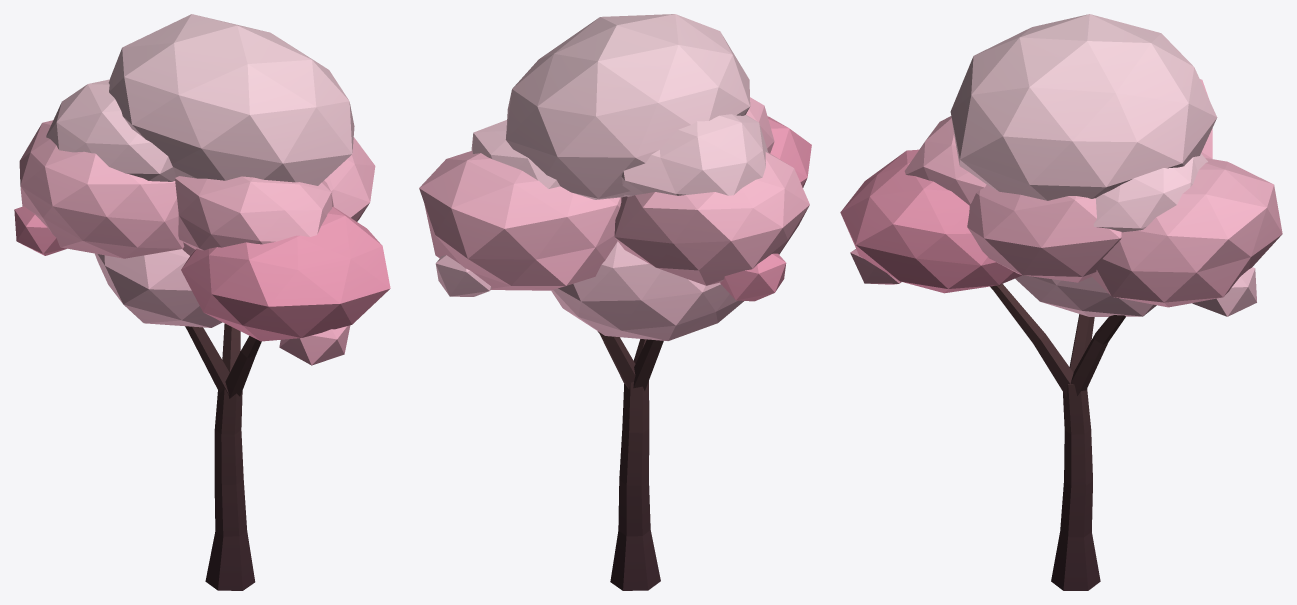
File: sakura_b.glb
3 views of the same model, side by side, from view 1: azimuth 30°, elevation 25°; view 2: azimuth 150°, elevation 25°; view 3: azimuth 270°, elevation 25° (orthographic).
Visible parts, largest first — view 1: sakura_b; view 2: sakura_b; view 3: sakura_b.
Boxes of the visible parts, x1=… form: sakura_b: x1=14, y1=14, x2=390, y2=590; sakura_b: x1=419, y1=14, x2=811, y2=590; sakura_b: x1=840, y1=14, x2=1282, y2=590.
Bounding box in the file's own units: 4.37 × 7.05 × 5.16.
